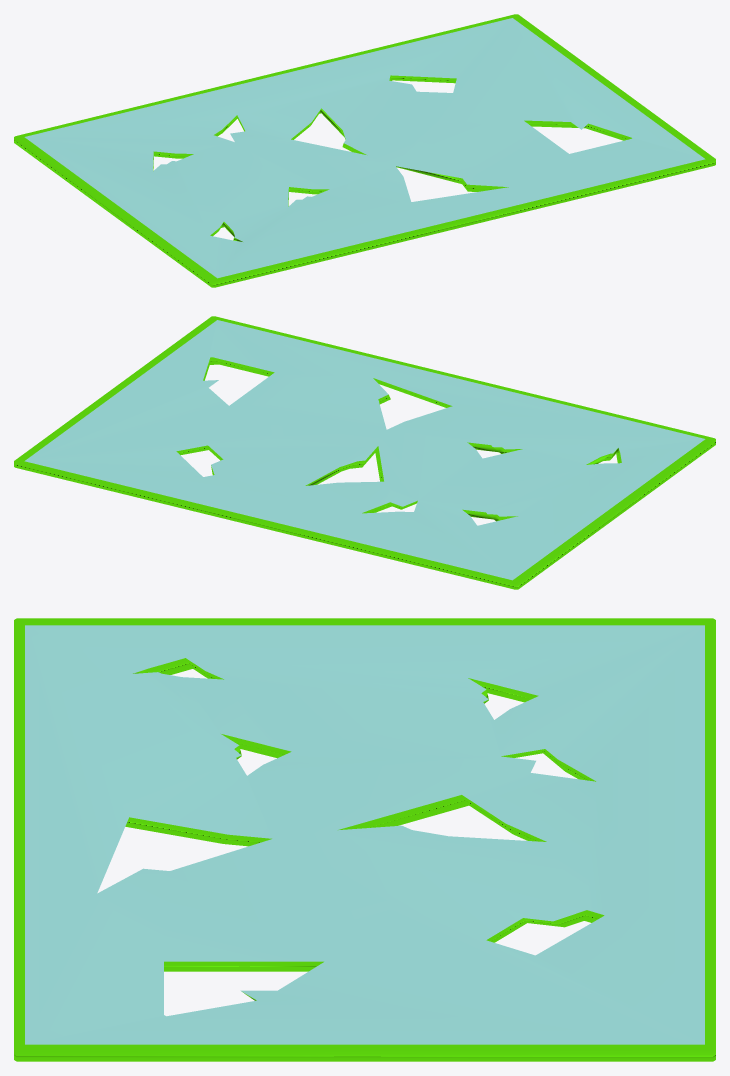
The model's file is dywan2.fbx.
The picture shows the model from 3 angles, top to bottom: view 1: azimuth 30°, elevation 25°; view 2: azimuth 150°, elevation 25°; view 3: azimuth 270°, elevation 25°; orthographic projection. The views are drawn at different scales.
Parts seen in each view (by area): view 1: Cube; view 2: Cube; view 3: Cube.
Part boxes in pixels (box(x1,y1,x2,y2)): Cube: box(14, 14, 715, 287); Cube: box(14, 316, 715, 589); Cube: box(14, 618, 715, 1061).
Bounding box in the file's own units: 316 × 3.42 × 217.
